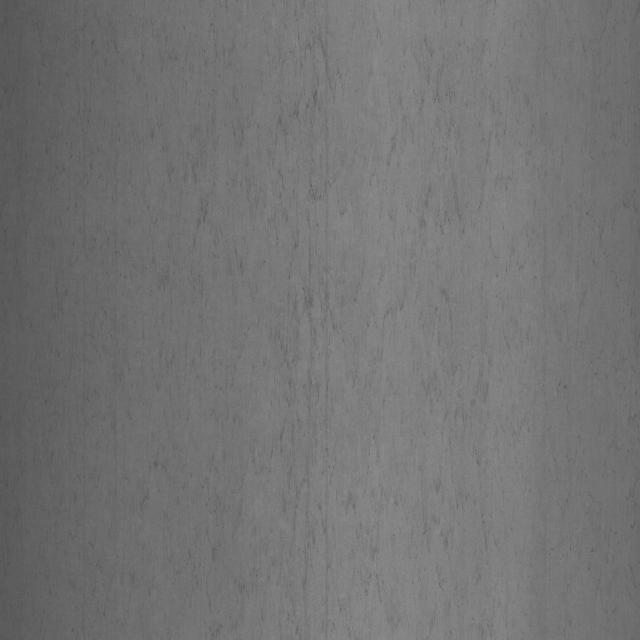inclusion: (400, 41, 638, 611), (222, 37, 396, 596)
